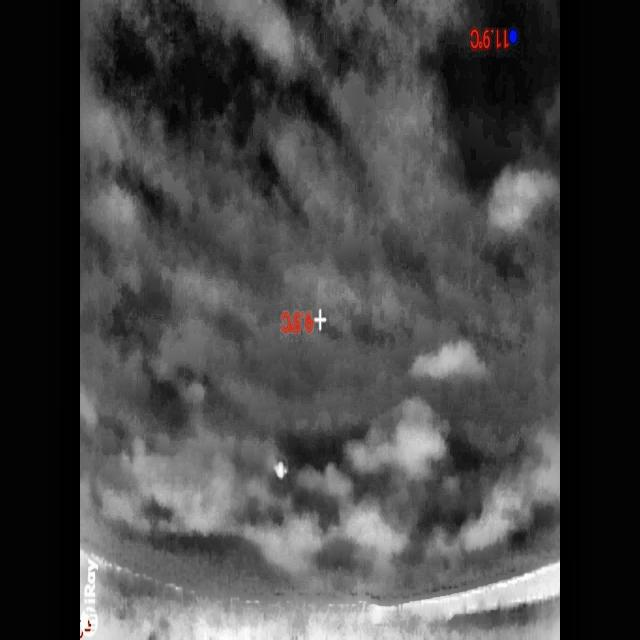drone: (272, 457, 288, 483)
